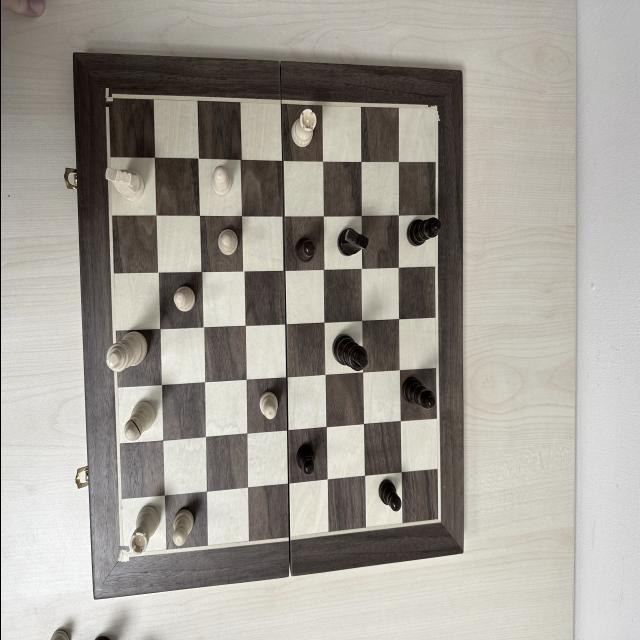chess-table-corners: (428, 100, 443, 122), (98, 88, 112, 107), (432, 511, 444, 529), (115, 546, 128, 562)
